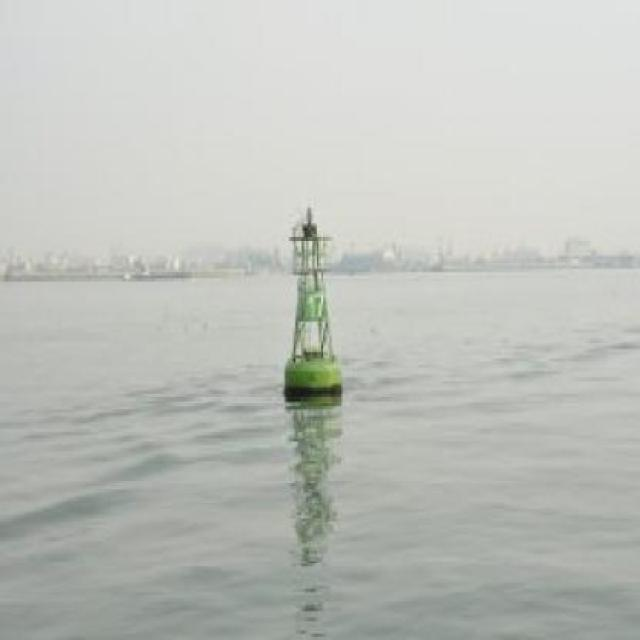buoy: (277, 192, 353, 408)
